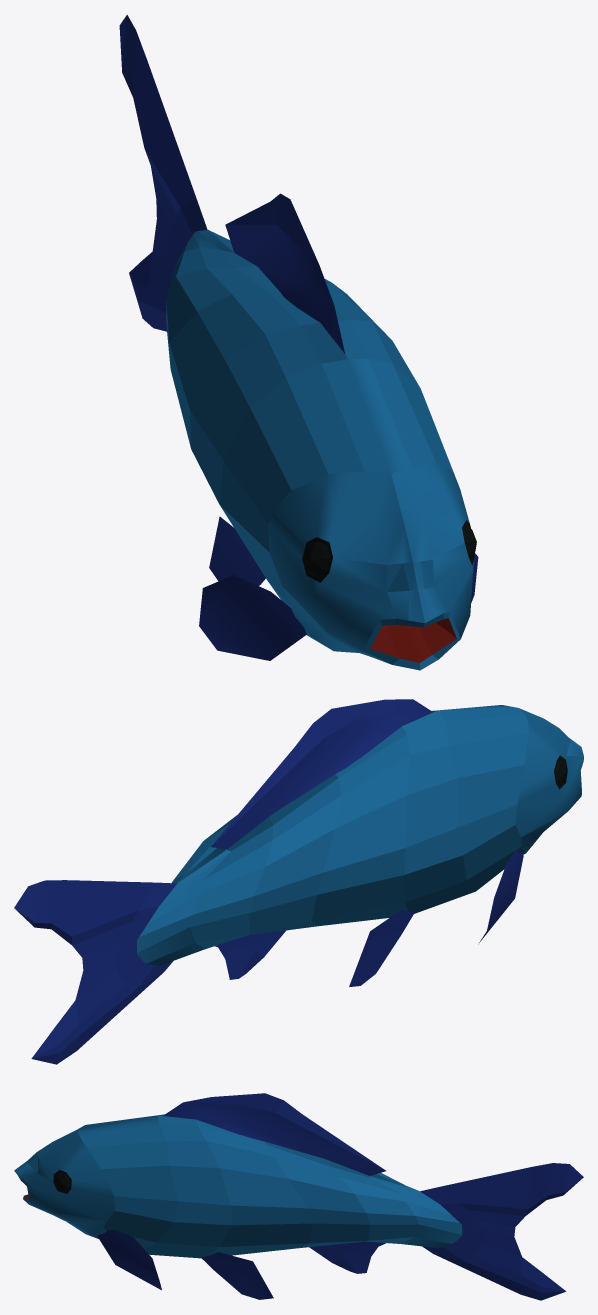
File: pez de tronchatoro.FBX
3 views of the same model, one above another, from view 1: azimuth 30°, elevation 25°; view 2: azimuth 150°, elevation 25°; view 3: azimuth 270°, elevation 25° (orthographic). The views are drawn at different scales.
Parts seen in each view (by area): view 1: pez cuerpo, pez aletas; view 2: pez cuerpo, pez aletas; view 3: pez cuerpo, pez aletas.
Boxes of the visible parts, x1,y1,x2,y2 form: pez cuerpo: (166,229,476,670); pez aletas: (119,14,478,660); pez cuerpo: (137,705,583,965); pez aletas: (14,699,523,1064); pez cuerpo: (14,1114,462,1258); pez aletas: (97,1093,583,1300).
Size of the model in its own units: 5.83 by 6.91 by 18.5.
